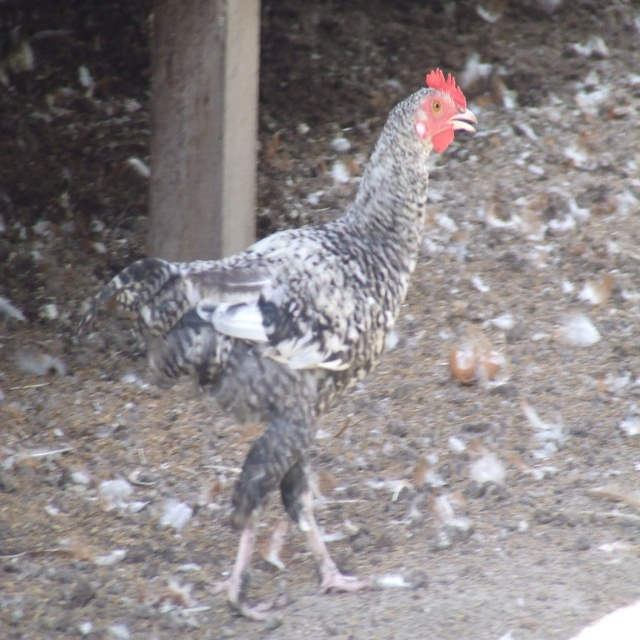Chicken: (96, 51, 494, 598)
